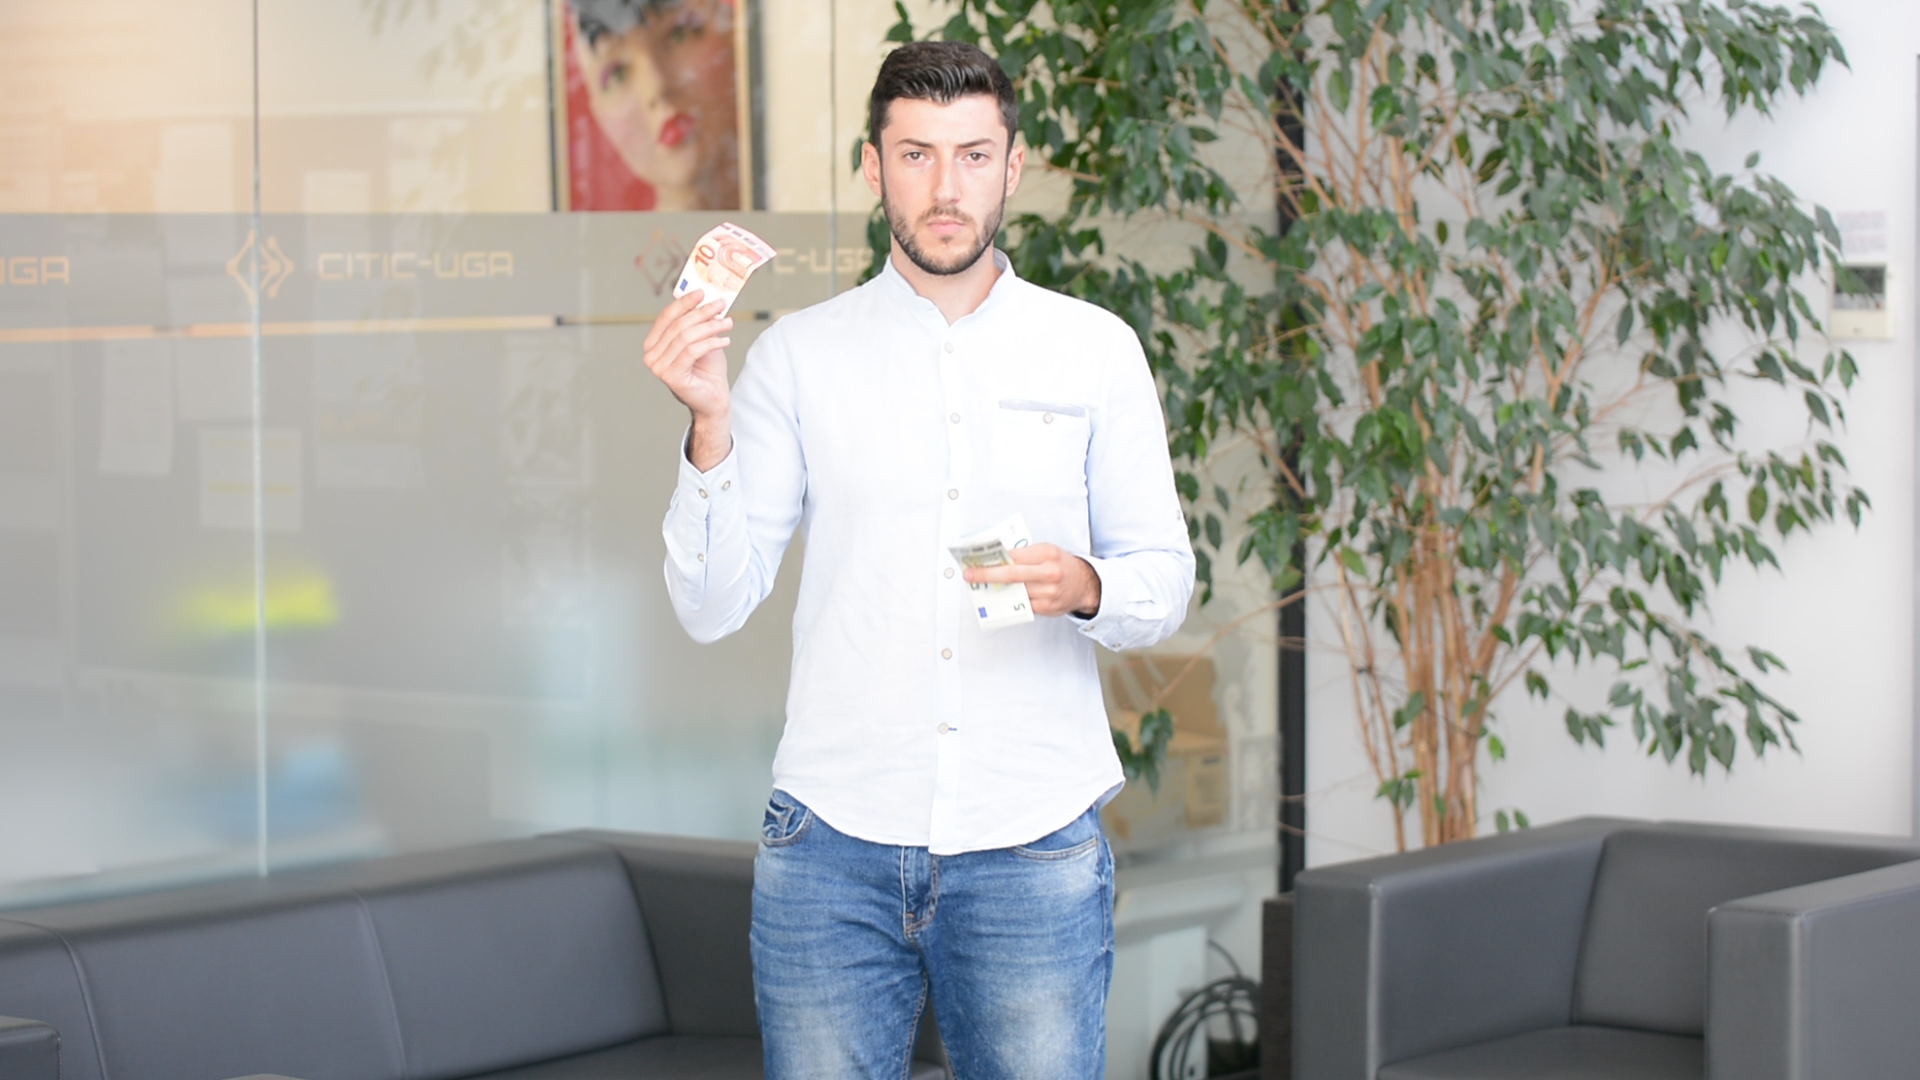billete: (948, 504, 1036, 634), (670, 219, 778, 322)
